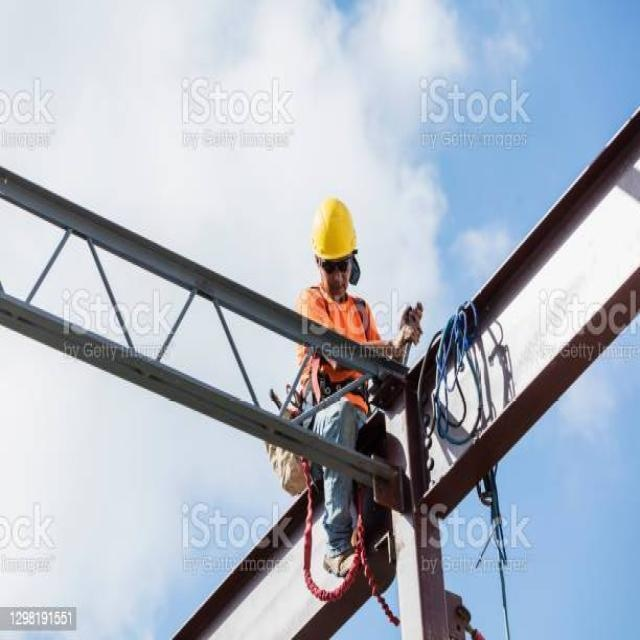Arnes_seguridad: (286, 280, 381, 451)
